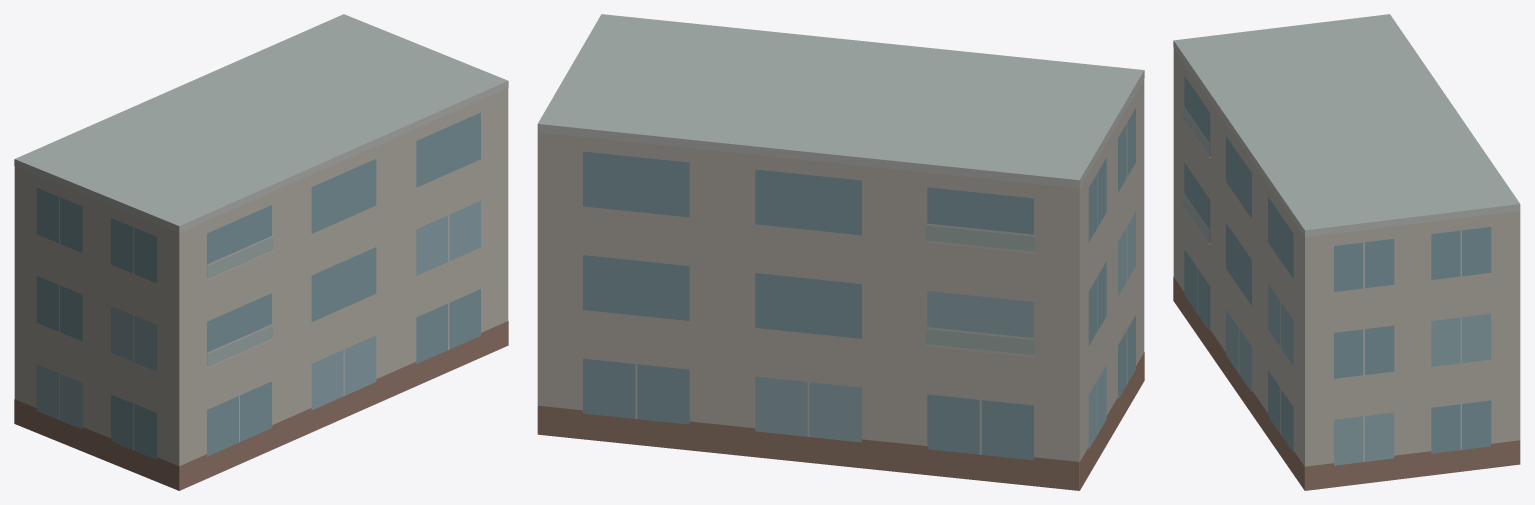
The model's file is survey-upis-32821561.glb.
3 views of the same model, side by side, from view 1: azimuth 30°, elevation 25°; view 2: azimuth 150°, elevation 25°; view 3: azimuth 270°, elevation 25° (orthographic). The views are drawn at different scales.
Parts seen in each view (by area): view 1: survey-upis-32821561.tmp; view 2: survey-upis-32821561.tmp; view 3: survey-upis-32821561.tmp.
Part boxes in pixels (left/top/right/bottom): survey-upis-32821561.tmp: left=14, top=14, right=508, bottom=490; survey-upis-32821561.tmp: left=537, top=14, right=1144, bottom=490; survey-upis-32821561.tmp: left=1173, top=14, right=1520, bottom=490.
Bounding box in the file's own units: 16.31 × 9.15 × 11.05.
